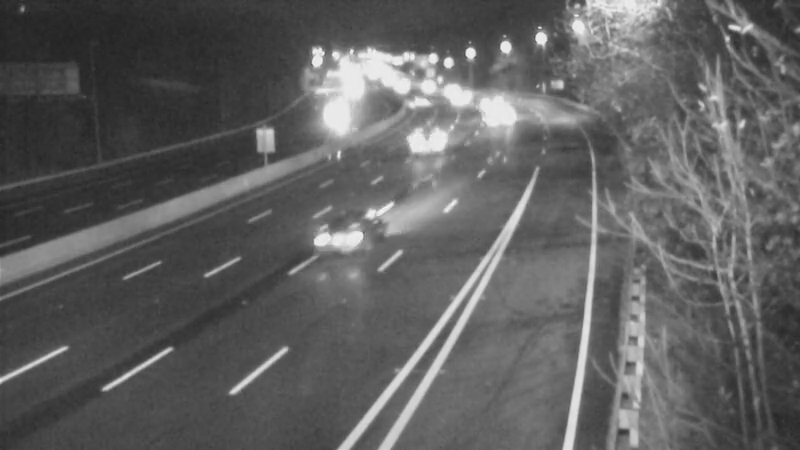vehicle: (307, 198, 387, 278), (433, 71, 483, 121), (387, 79, 437, 129), (457, 76, 507, 126), (474, 89, 524, 139), (399, 116, 449, 166), (314, 86, 364, 136)
